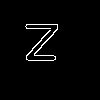Z: (25, 24, 59, 70)
